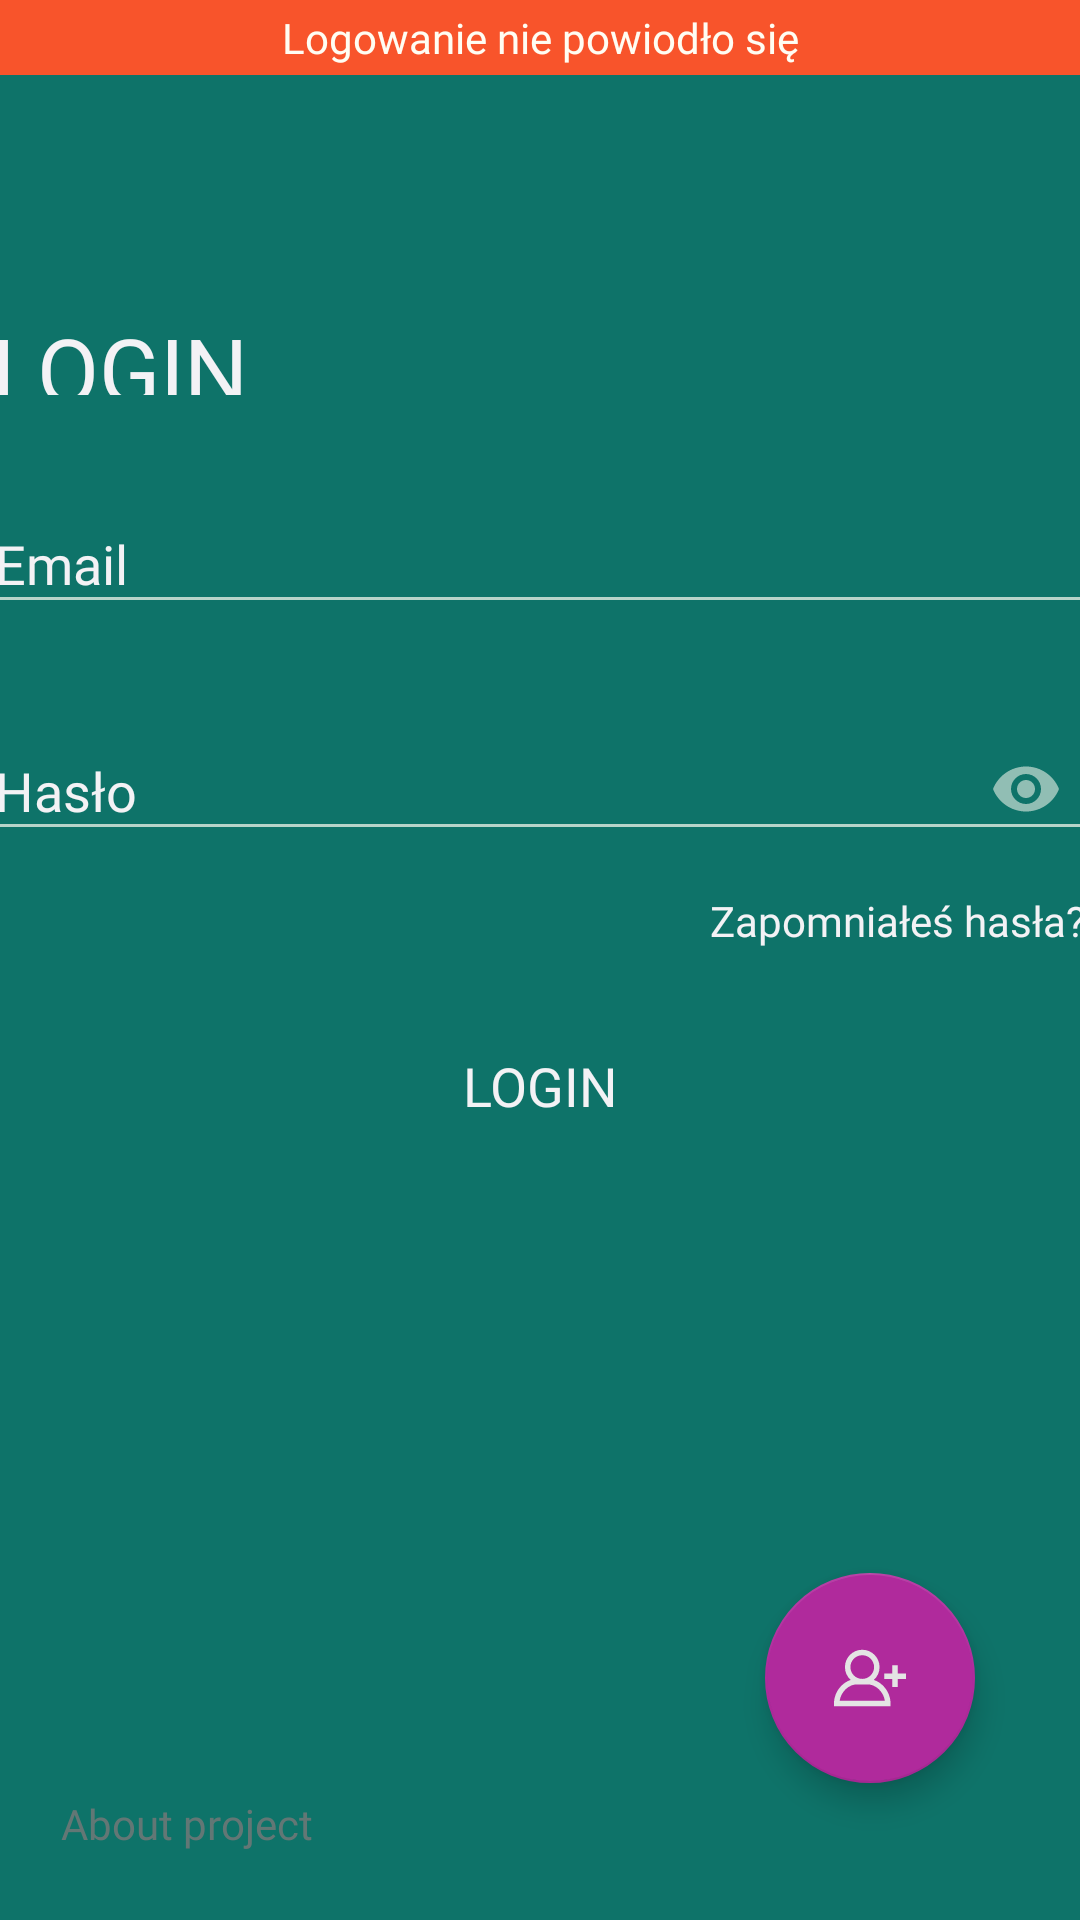

Point at icon controls on the screen. Image size 1080×1920, points as (x,y).
add user: (870,1678)
